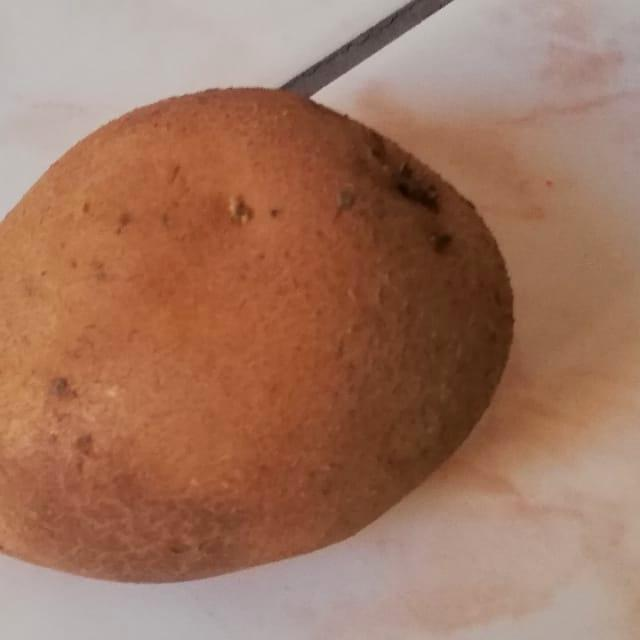potato: (0, 66, 528, 596)
